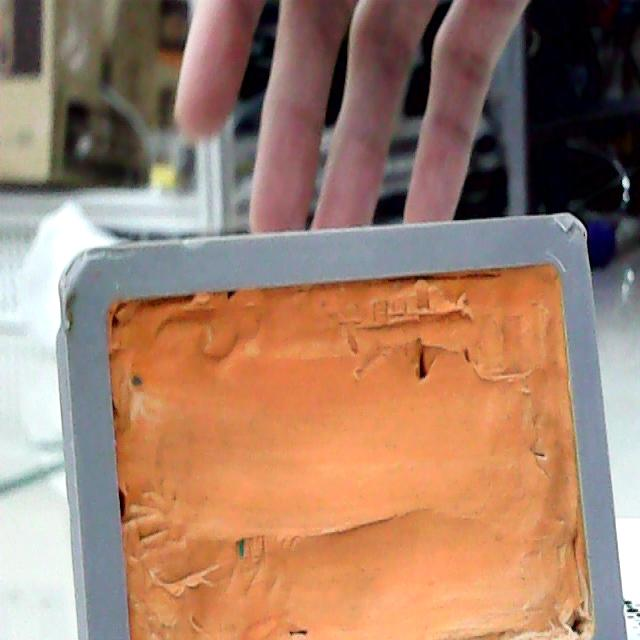block: (52, 213, 626, 640)
